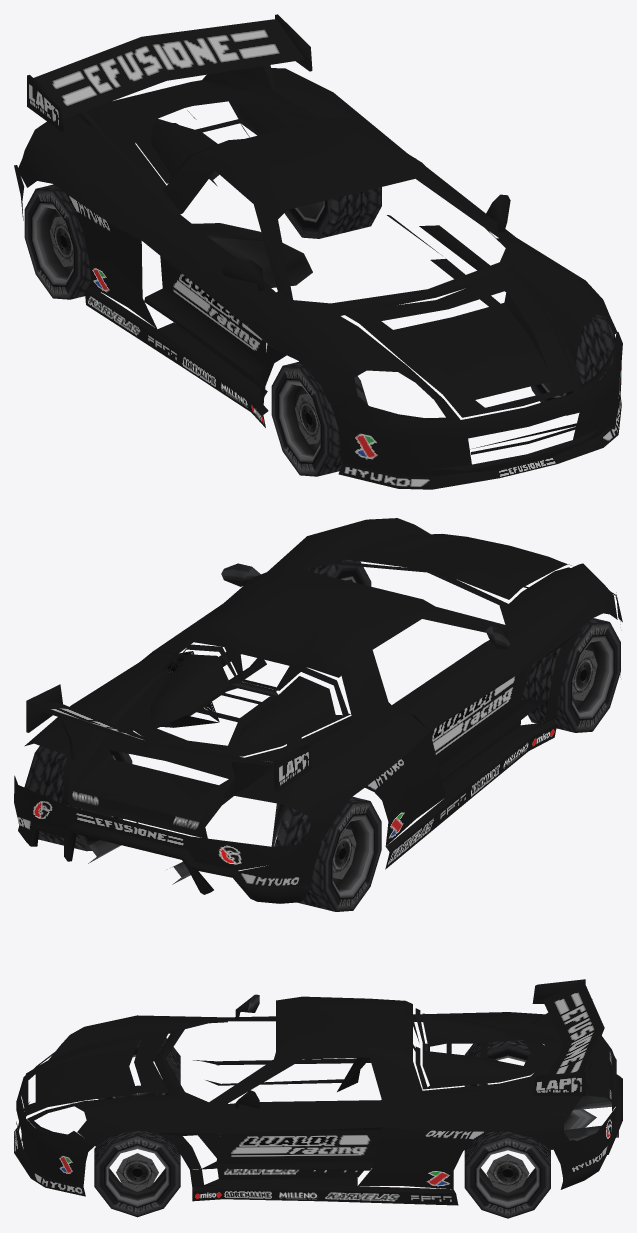
File: car-SUPR_Car2.glb
The picture shows the model from 3 angles, top to bottom: view 1: azimuth 30°, elevation 25°; view 2: azimuth 150°, elevation 25°; view 3: azimuth 270°, elevation 25°; orthographic projection. The views are drawn at different scales.
Parts seen in each view (by area): view 1: SUPR_Car2; view 2: SUPR_Car2; view 3: SUPR_Car2.
Part boxes in pixels (x1,y1,x2,y2): SUPR_Car2: (14, 14, 622, 489); SUPR_Car2: (14, 518, 622, 911); SUPR_Car2: (14, 979, 622, 1218).
Size of the model in its own units: 2.05 by 1.34 by 4.65.
16 materials, 16 textured.
